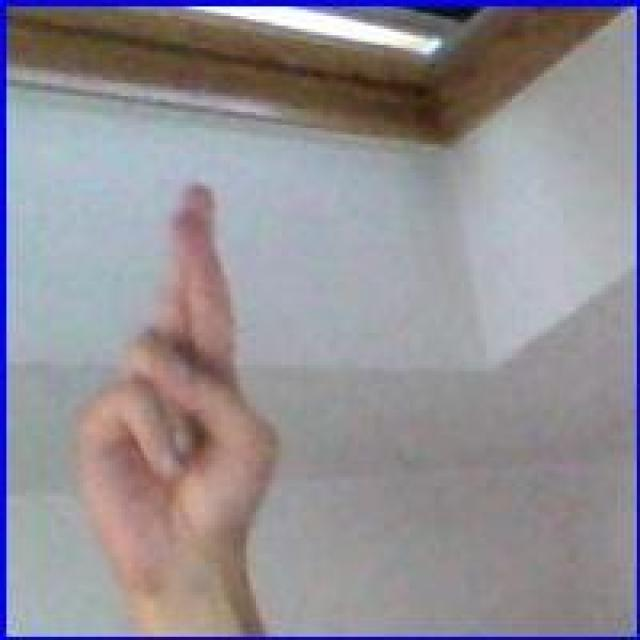R: (65, 179, 292, 576)
